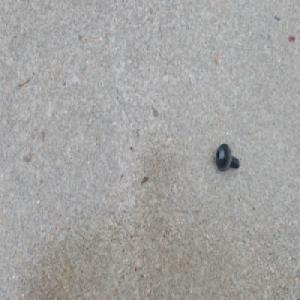BoltWasher: (215, 141, 240, 172)
